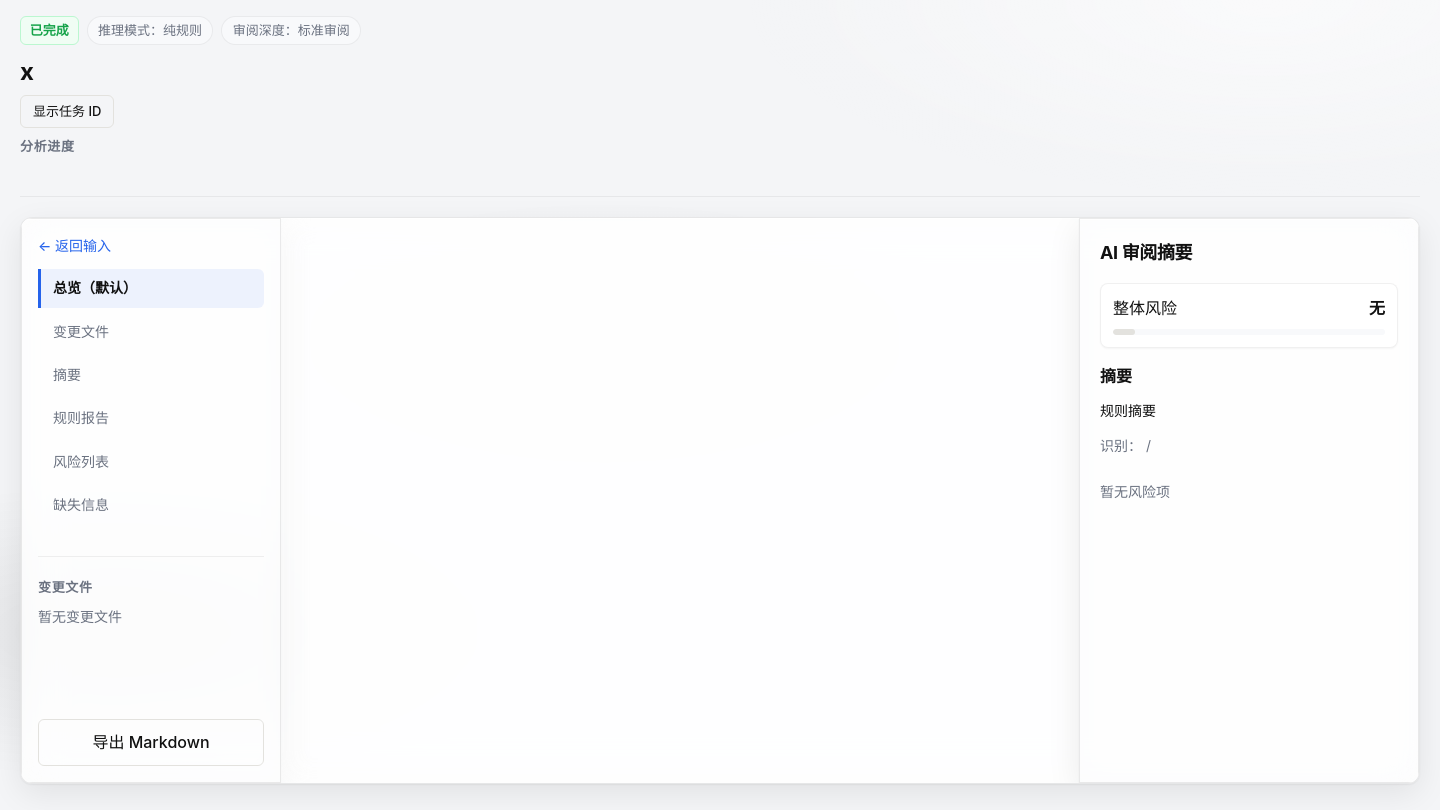
DetailPage › 无 llmOptions 时仍按 markdown_report 展示规则报告
Expected: the navigation bar named "任务详情导航" is shown, [38,269,264,536]
Click the button "规则报告": [151, 418] box [38,398,264,438]
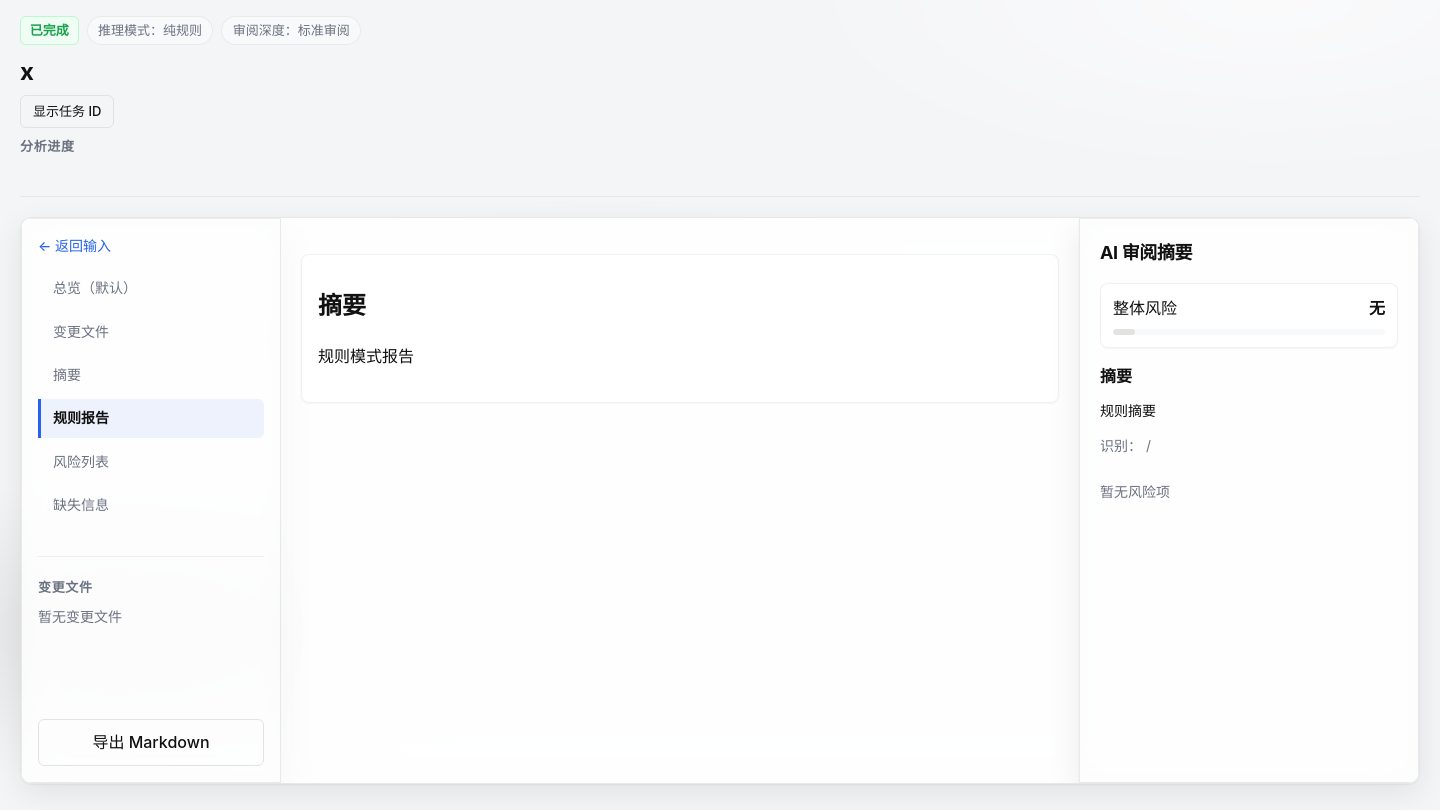
Expected: the text "规则模式报告" is shown, [318,346,414,366]
